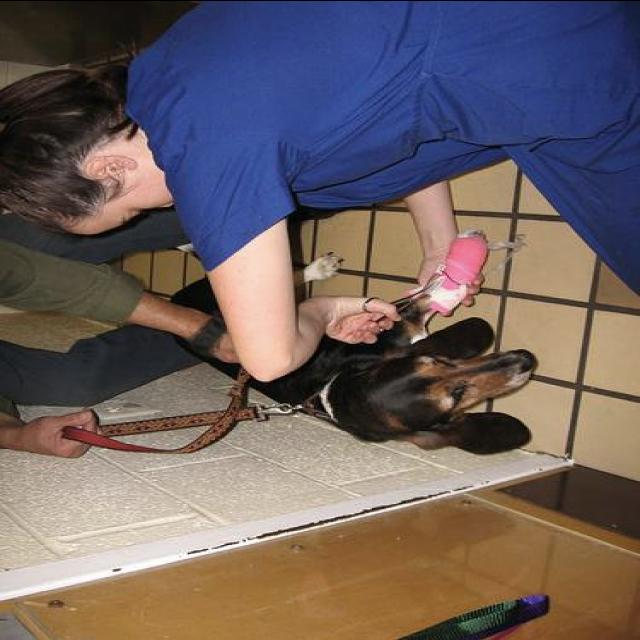basset: (163, 245, 538, 456)
